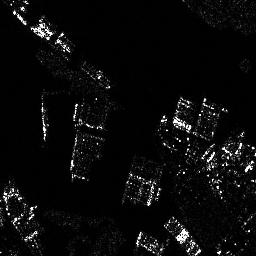ship: (163, 212, 202, 256), (82, 57, 111, 88), (122, 184, 154, 208), (138, 229, 164, 255), (127, 170, 155, 193), (38, 110, 49, 140)
